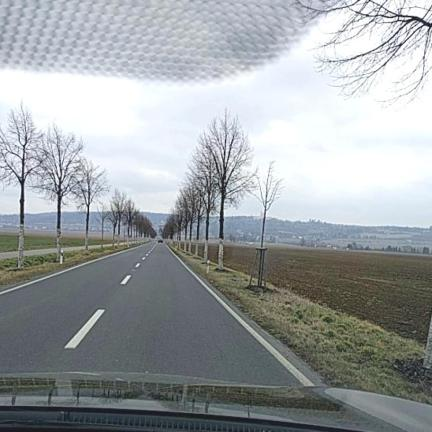Road: (0, 242, 300, 385)
